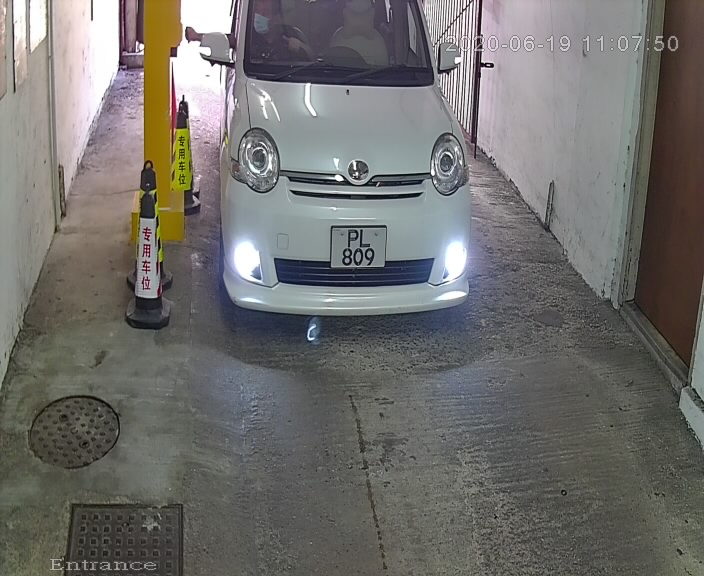privatecar: (208, 3, 475, 319)
